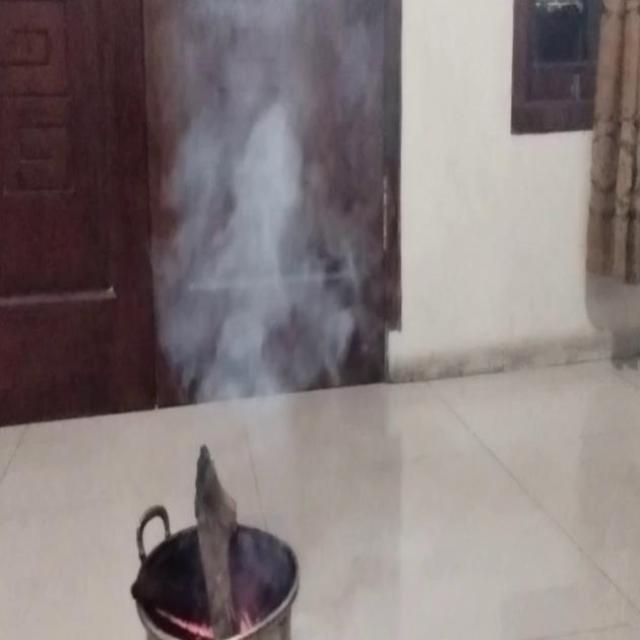fire: (152, 2, 364, 457)
